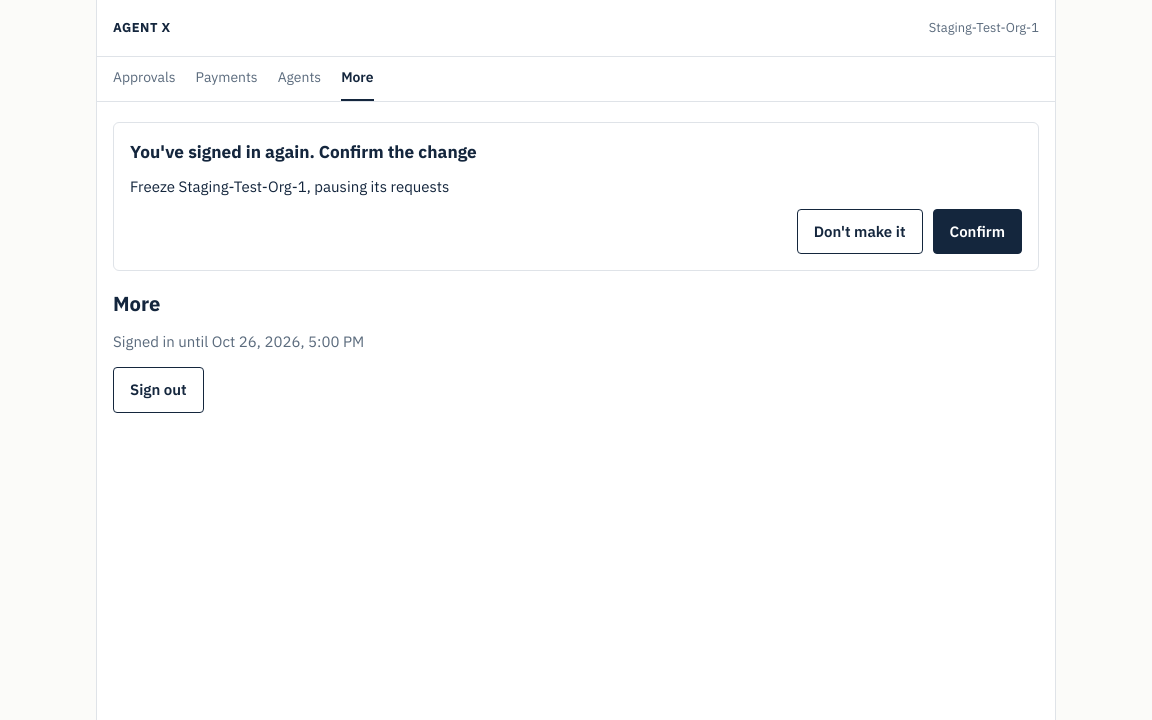
Scenario: back from a step-up › says a change the API refused was not made
What coordinates should you click on to do the following:
click the button "Confirm"
I would click on:
 (977, 231)
Its box is x1=932 y1=209 x2=1022 y2=254.
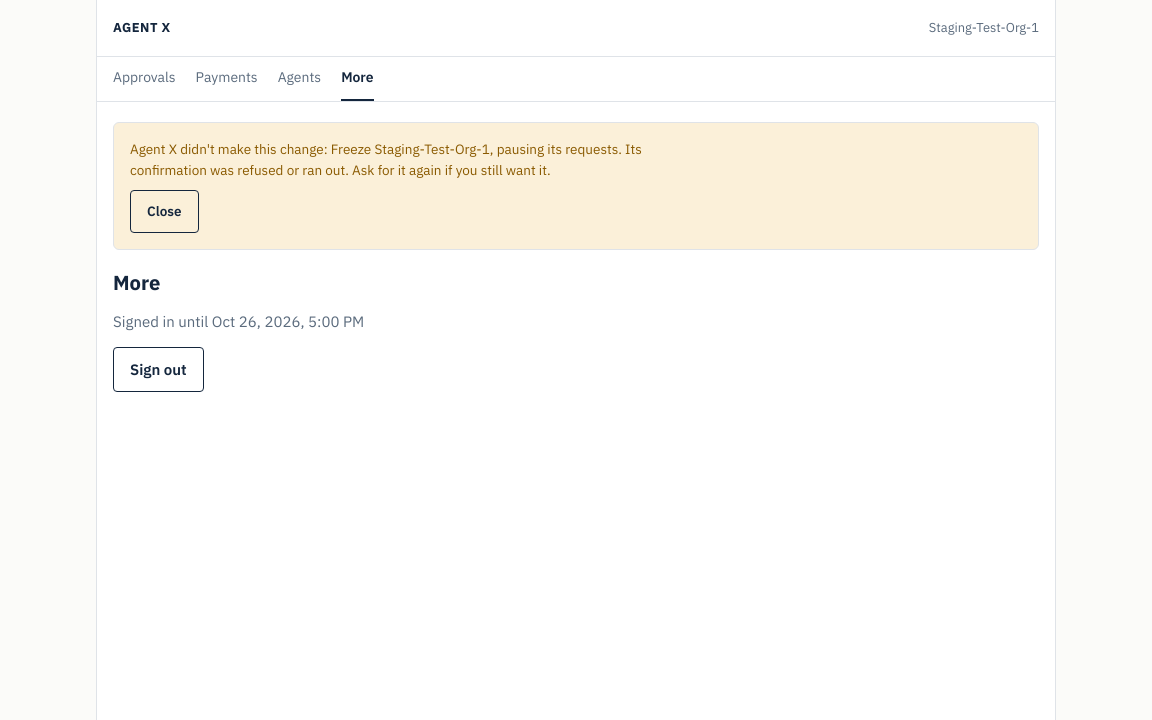
expect the text "Agent X didn't make this change" is shown: met, box x1=130 y1=140 x2=642 y2=178
